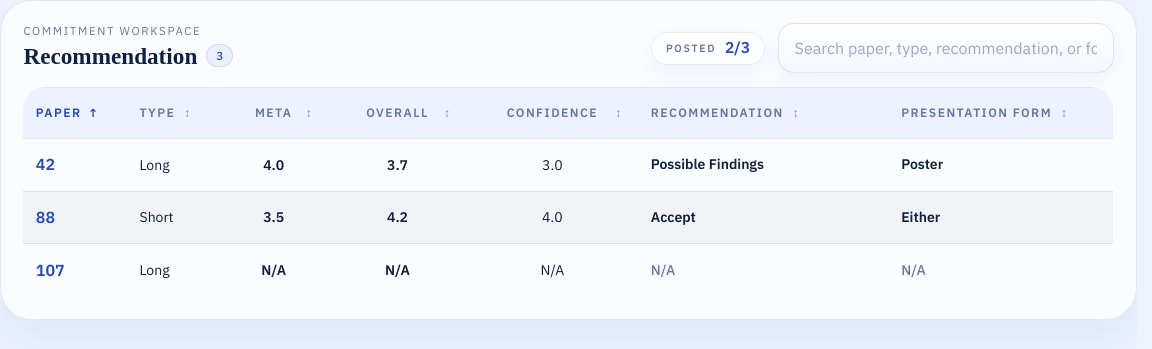
Test case: RecommendationPanel › filters recommendation text and updates the posted summary
Expected: the text "2/3" is shown, [725, 40, 750, 56]
Type "possible findings" into the field named "Search recommendations" at (946, 48), box [778, 23, 1114, 73]
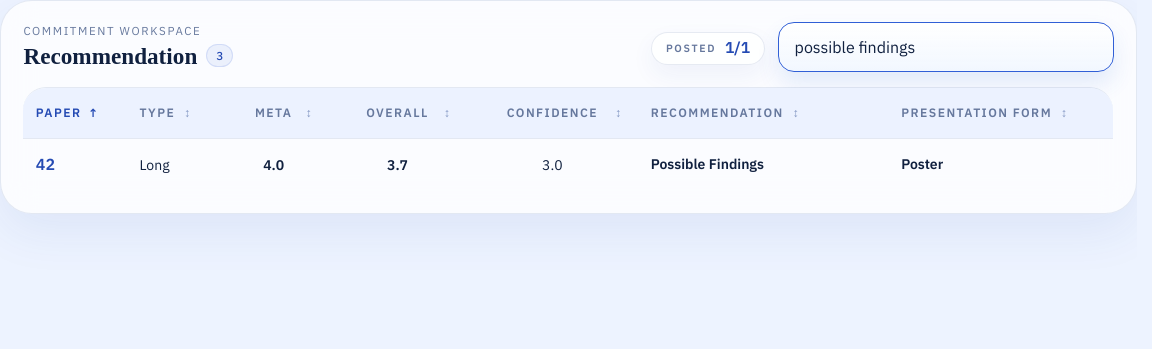
Expected: the text "1/1" is shown, [725, 40, 750, 56]
